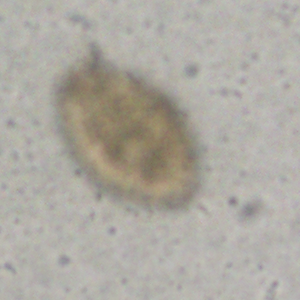Fasciola_hepatica_egg: (59, 60, 203, 211)
